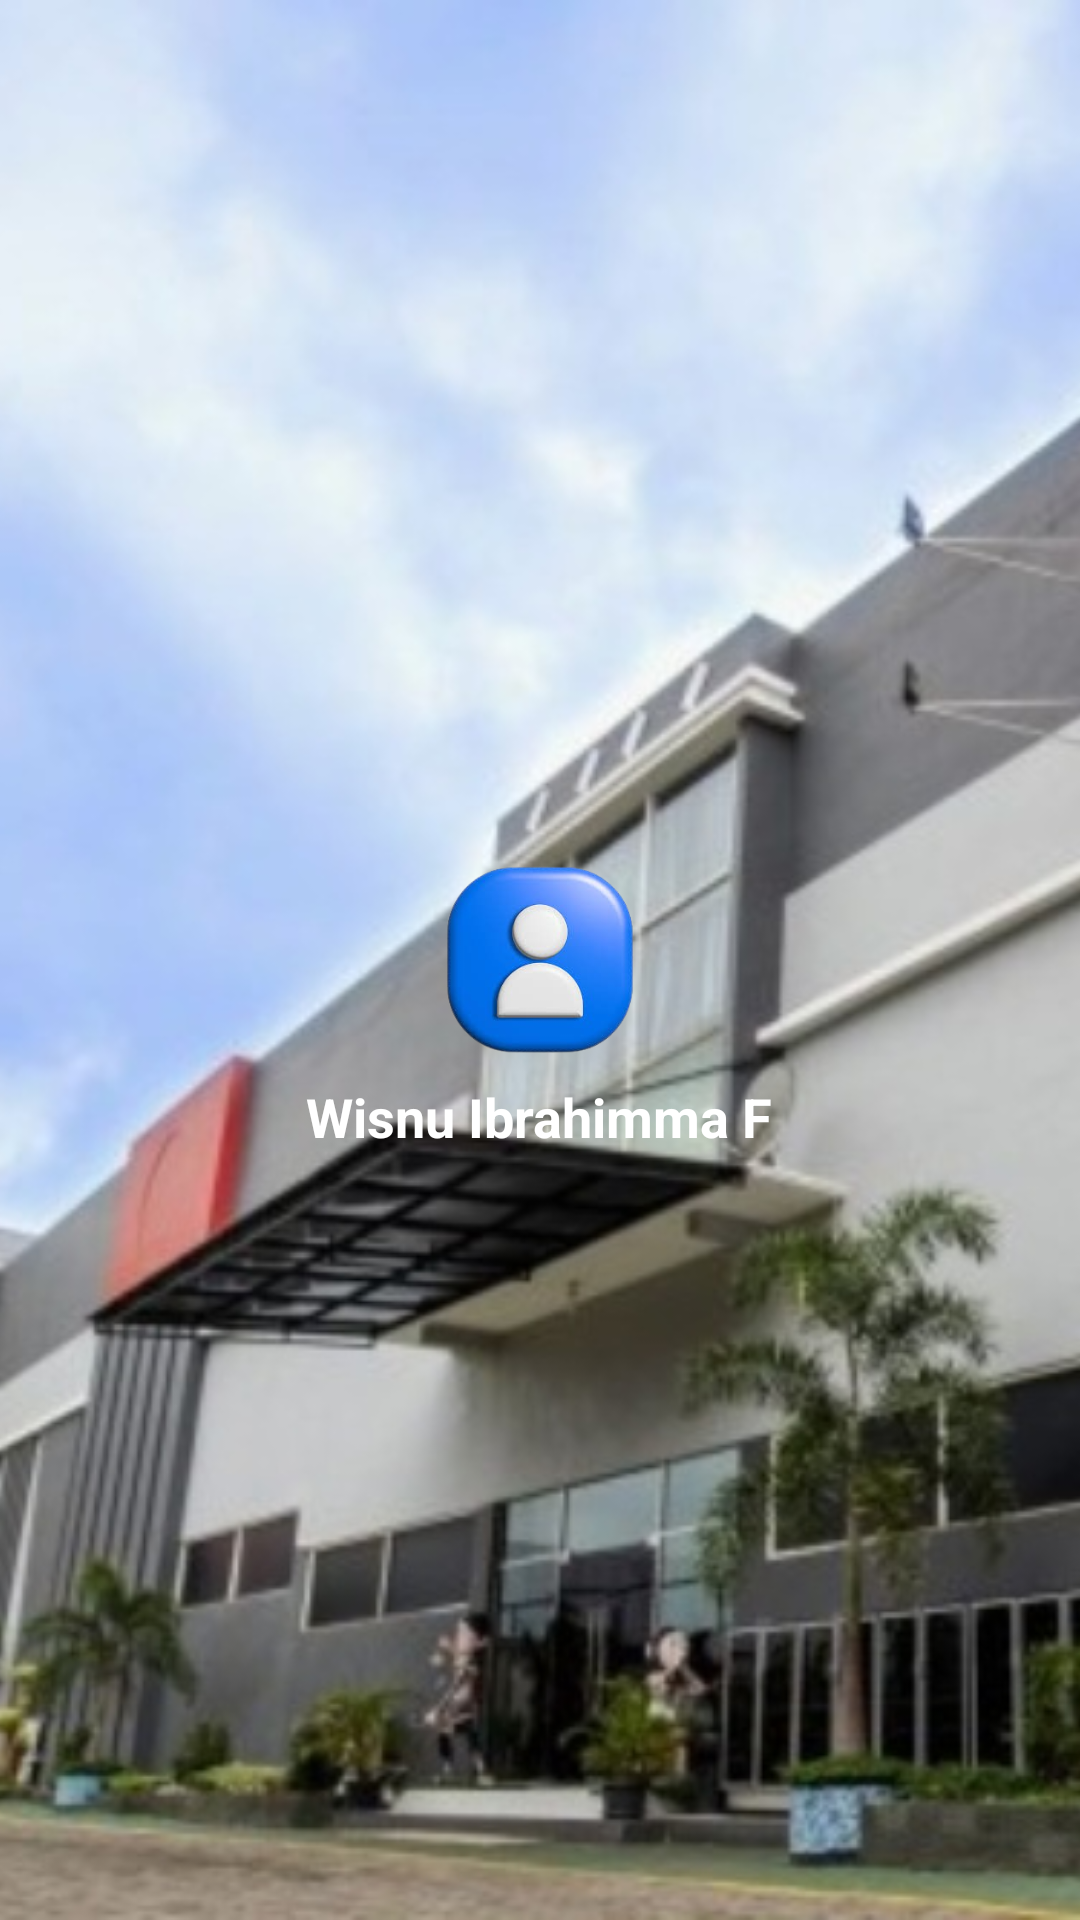

Icon click points for this 1080 × 1920 phone screenshot, format point (x, y):
profil: point (540, 960)
